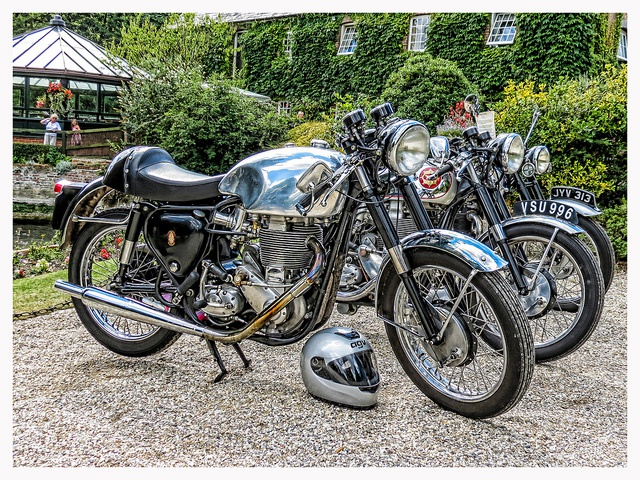non-vehicle: (52, 100, 536, 421), (423, 124, 606, 361), (521, 110, 615, 286)
